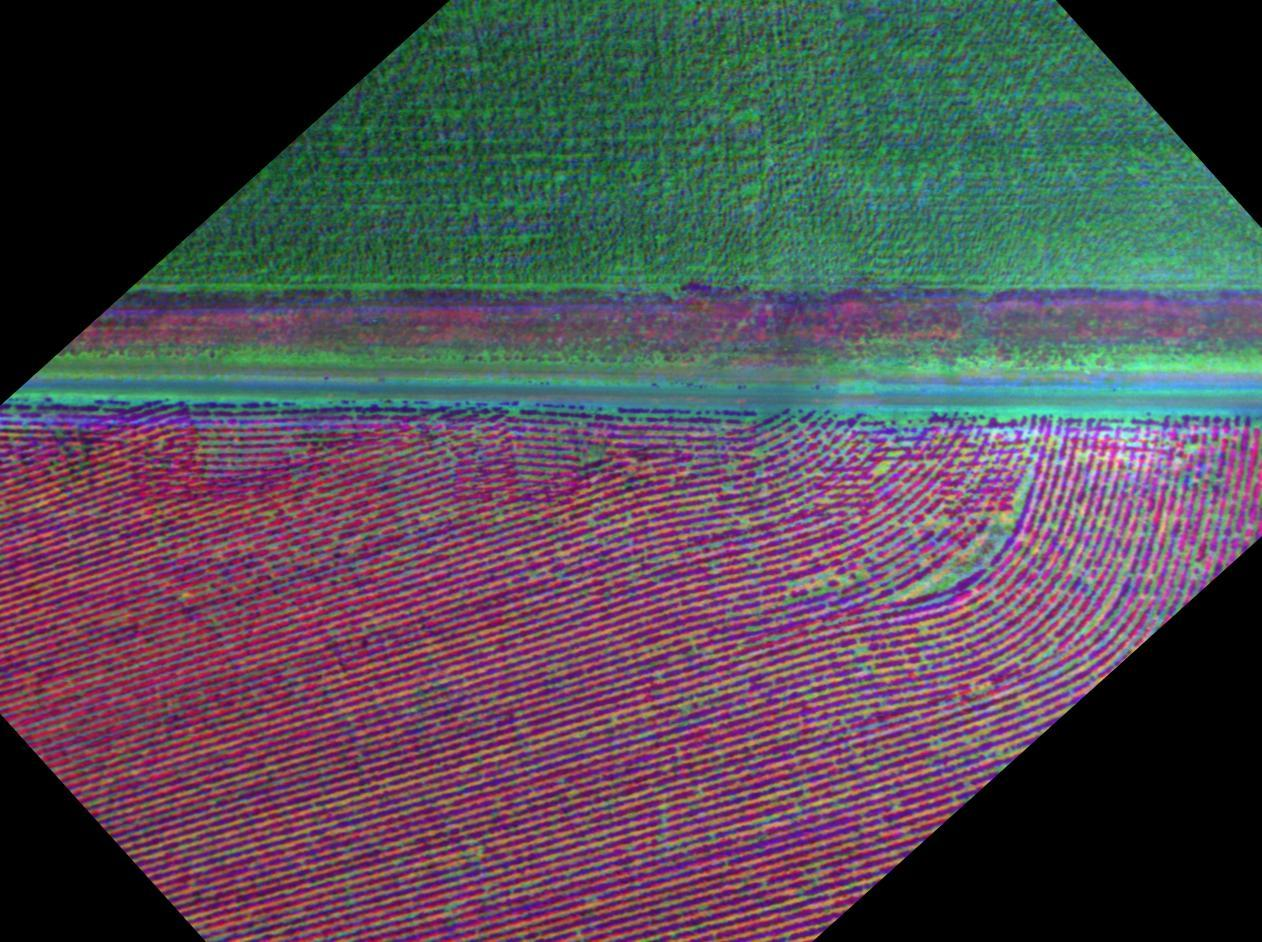dc: (636, 785, 763, 860), (1013, 448, 1089, 554), (913, 503, 1005, 584), (793, 540, 875, 613), (1133, 535, 1189, 610)
